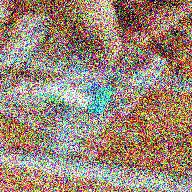러키펜정: (61, 89, 81, 105)
씨엠지세파클러캡슐: (78, 82, 101, 110)
에르도캡슐: (88, 86, 116, 116)
휴티렌정: (36, 91, 63, 106)
